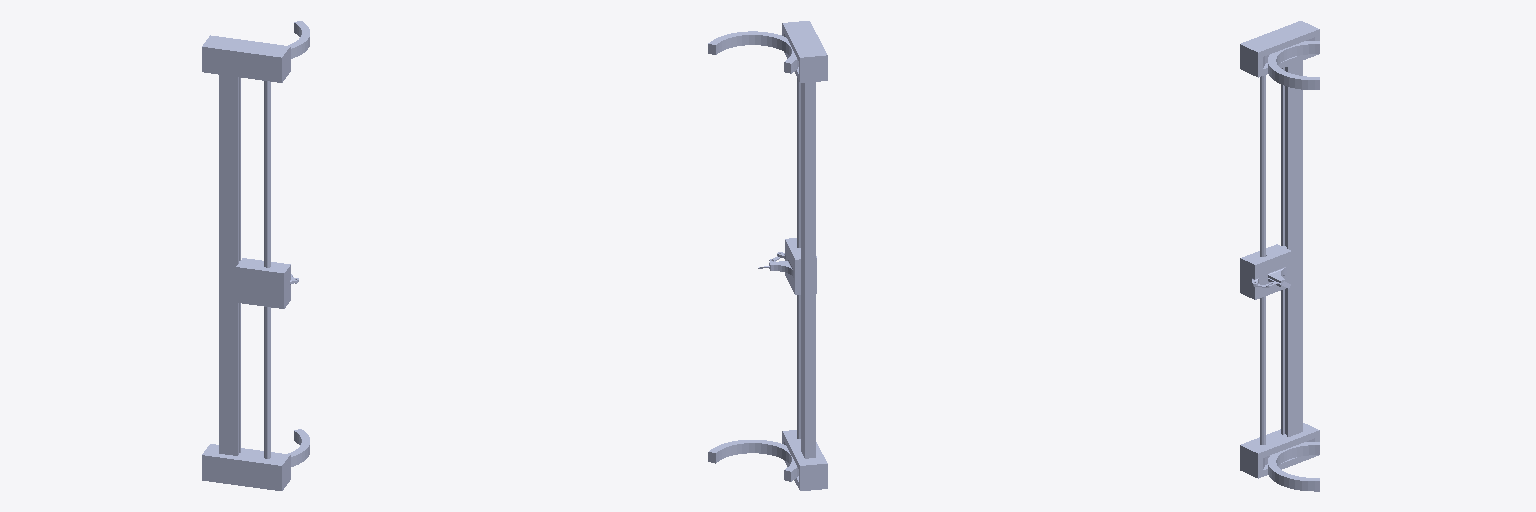
URDF robot description (Conceptual Mechanism Assembly2):
<?xml version="1.0" encoding="utf-8"?>
<!-- This URDF was automatically created by SolidWorks to URDF Exporter! Originally created by [author] ([email redacted]) 
     Commit Version: 1.6.0-4-g7f85cfe  Build Version: 1.6.7995.38578
     For more information, please see http://wiki.ros.org/sw_urdf_exporter -->
<robot
  name="Conceptual Mechanism Assembly2">
  <link
    name="base_link">
    <inertial>
      <origin
        xyz="4.3535E-18 -0.045356 0.41"
        rpy="0 0 0" />
      <mass
        value="0.15808" />
      <inertia
        ixx="0.00012329"
        ixy="-2.5259E-20"
        ixz="8.3821E-23"
        iyy="0.00052039"
        iyz="2.4384E-21"
        izz="0.00063313" />
    </inertial>
    <visual>
      <origin
        xyz="0 0 0"
        rpy="0 0 0" />
      <geometry>
        <mesh
          filename="package://Conceptual Mechanism Assembly2/meshes/base_link.STL" />
      </geometry>
      <material
        name="">
        <color
          rgba="0.79216 0.81961 0.93333 1" />
      </material>
    </visual>
    <collision>
      <origin
        xyz="0 0 0"
        rpy="0 0 0" />
      <geometry>
        <mesh
          filename="package://Conceptual Mechanism Assembly2/meshes/base_link.STL" />
      </geometry>
    </collision>
  </link>
  <link
    name="vertical">
    <inertial>
      <origin
        xyz="-0.0097307 0.425 0.0013529"
        rpy="0 0 0" />
      <mass
        value="1.2121" />
      <inertia
        ixx="0.12949"
        ixy="5.6735E-18"
        ixz="-1.5957E-05"
        iyy="0.0019942"
        iyz="1.6388E-19"
        izz="0.13119" />
    </inertial>
    <visual>
      <origin
        xyz="0 0 0"
        rpy="0 0 0" />
      <geometry>
        <mesh
          filename="package://Conceptual Mechanism Assembly2/meshes/vertical.STL" />
      </geometry>
      <material
        name="">
        <color
          rgba="0.79216 0.81961 0.93333 1" />
      </material>
    </visual>
    <collision>
      <origin
        xyz="0 0 0"
        rpy="0 0 0" />
      <geometry>
        <mesh
          filename="package://Conceptual Mechanism Assembly2/meshes/vertical.STL" />
      </geometry>
    </collision>
  </link>
  <joint
    name="vertical"
    type="fixed">
    <origin
      xyz="-0.0705 -0.063677 -0.015"
      rpy="1.5708 0 -0.83621" />
    <parent
      link="base_link" />
    <child
      link="vertical" />
    <axis
      xyz="0 0 0" />
  </joint>
  <link
    name="tool_post">
    <inertial>
      <origin
        xyz="-0.0081796 0.023657 -0.0010285"
        rpy="0 0 0" />
      <mass
        value="0.25437" />
      <inertia
        ixx="0.0001431"
        ixy="-8.0319E-08"
        ixz="2.1689E-06"
        iyy="0.00022245"
        iyz="3.3613E-08"
        izz="0.00028062" />
    </inertial>
    <visual>
      <origin
        xyz="0 0 0"
        rpy="0 0 0" />
      <geometry>
        <mesh
          filename="package://Conceptual Mechanism Assembly2/meshes/tool_post.STL" />
      </geometry>
      <material
        name="">
        <color
          rgba="0.79216 0.81961 0.93333 1" />
      </material>
    </visual>
    <collision>
      <origin
        xyz="0 0 0"
        rpy="0 0 0" />
      <geometry>
        <mesh
          filename="package://Conceptual Mechanism Assembly2/meshes/tool_post.STL" />
      </geometry>
    </collision>
  </link>
  <joint
    name="tool_post"
    type="prismatic">
    <origin
      xyz="0.04 0.36659 0"
      rpy="0 0 0" />
    <parent
      link="vertical" />
    <child
      link="tool_post" />
    <axis
      xyz="0 1 0" />
    <limit
      lower="0"
      upper="0"
      effort="0"
      velocity="0" />
  </joint>
  <link
    name="tool_link">
    <inertial>
      <origin
        xyz="-0.012372 -0.010349 -0.0017822"
        rpy="0 0 0" />
      <mass
        value="0.00045027" />
      <inertia
        ixx="3.2618E-09"
        ixy="-3.8961E-24"
        ixz="-4.3493E-09"
        iyy="3.5791E-08"
        iyz="-3.1579E-25"
        izz="3.2829E-08" />
    </inertial>
    <visual>
      <origin
        xyz="0 0 0"
        rpy="0 0 0" />
      <geometry>
        <mesh
          filename="package://Conceptual Mechanism Assembly2/meshes/tool_link.STL" />
      </geometry>
      <material
        name="">
        <color
          rgba="0.79216 0.81961 0.93333 1" />
      </material>
    </visual>
    <collision>
      <origin
        xyz="0 0 0"
        rpy="0 0 0" />
      <geometry>
        <mesh
          filename="package://Conceptual Mechanism Assembly2/meshes/tool_link.STL" />
      </geometry>
    </collision>
  </link>
  <joint
    name="tool_link"
    type="continuous">
    <origin
      xyz="0.044107 0.03225 -0.026607"
      rpy="0 -0.69766 0" />
    <parent
      link="tool_post" />
    <child
      link="tool_link" />
    <axis
      xyz="0 1 0" />
  </joint>
  <link
    name="tool">
    <inertial>
      <origin
        xyz="-0.0055 -0.011607 -0.0081597"
        rpy="0 0 0" />
      <mass
        value="0.00085306" />
      <inertia
        ixx="9.869E-08"
        ixy="-2.903E-10"
        ixz="-2.1453E-08"
        iyy="1.6478E-07"
        iyz="7.3519E-10"
        izz="6.9094E-08" />
    </inertial>
    <visual>
      <origin
        xyz="0 0 0"
        rpy="0 0 0" />
      <geometry>
        <mesh
          filename="package://Conceptual Mechanism Assembly2/meshes/tool.STL" />
      </geometry>
      <material
        name="">
        <color
          rgba="0.79216 0.81961 0.93333 1" />
      </material>
    </visual>
    <collision>
      <origin
        xyz="0 0 0"
        rpy="0 0 0" />
      <geometry>
        <mesh
          filename="package://Conceptual Mechanism Assembly2/meshes/tool.STL" />
      </geometry>
    </collision>
  </link>
  <joint
    name="tool"
    type="fixed">
    <origin
      xyz="-0.05189 0.00275 0.0029686"
      rpy="3.1416 -0.69766 -3.1416" />
    <parent
      link="tool_link" />
    <child
      link="tool" />
    <axis
      xyz="0 0 0" />
  </joint>
</robot>

--- What the picture shows (computed from the rendered views, not written in the file) ---
The picture shows the robot from 3 angles, left to right: view 1: azimuth 30°, elevation 25°; view 2: azimuth 150°, elevation 25°; view 3: azimuth 270°, elevation 25°; orthographic projection.
Robot: Conceptual Mechanism Assembly2 — 5 links, 4 joints (1 continuous, 1 prismatic, 2 fixed); root link base_link; default pose: every joint at zero.
Visible links, largest first — view 1: vertical, tool_post, base_link; view 2: vertical, base_link, tool_post; view 3: vertical, base_link, tool_post.
Link boxes in pixels (bbox=[...]): vertical: bbox=[202, 35, 290, 490]; tool_post: bbox=[236, 258, 298, 308]; base_link: bbox=[288, 21, 309, 466]; vertical: bbox=[782, 21, 827, 490]; base_link: bbox=[708, 31, 798, 481]; tool_post: bbox=[769, 238, 816, 294]; vertical: bbox=[1240, 21, 1319, 478]; base_link: bbox=[1268, 41, 1319, 491]; tool_post: bbox=[1240, 244, 1291, 299].
Size in the robot's own frame: 0.2243 by 0.1461 by 0.85 metres.
Meshes: 5 distinct files referenced, 5 mesh visuals loaded (5 binary STL).
